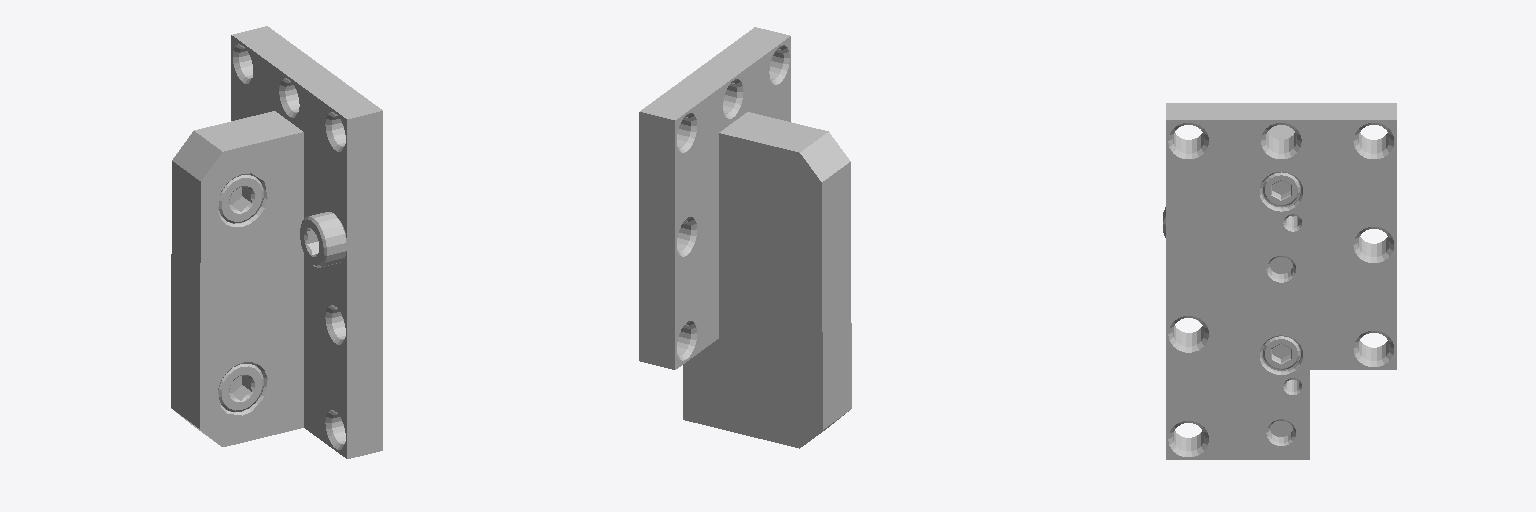
File: CP08_Top.obj
The picture shows the model from 3 angles: view 1: azimuth 30°, elevation 25°; view 2: azimuth 150°, elevation 25°; view 3: azimuth 270°, elevation 25°; orthographic projection.
Visible parts, largest first — view 1: polySurface974; view 2: polySurface974; view 3: polySurface974.
Boxes of the visible parts, x1=… form: polySurface974: x1=171, y1=26, x2=382, y2=458; polySurface974: x1=639, y1=27, x2=851, y2=448; polySurface974: x1=1163, y1=103, x2=1396, y2=459.
Bounding box in the file's own units: 17.76 × 41.16 × 25.69.